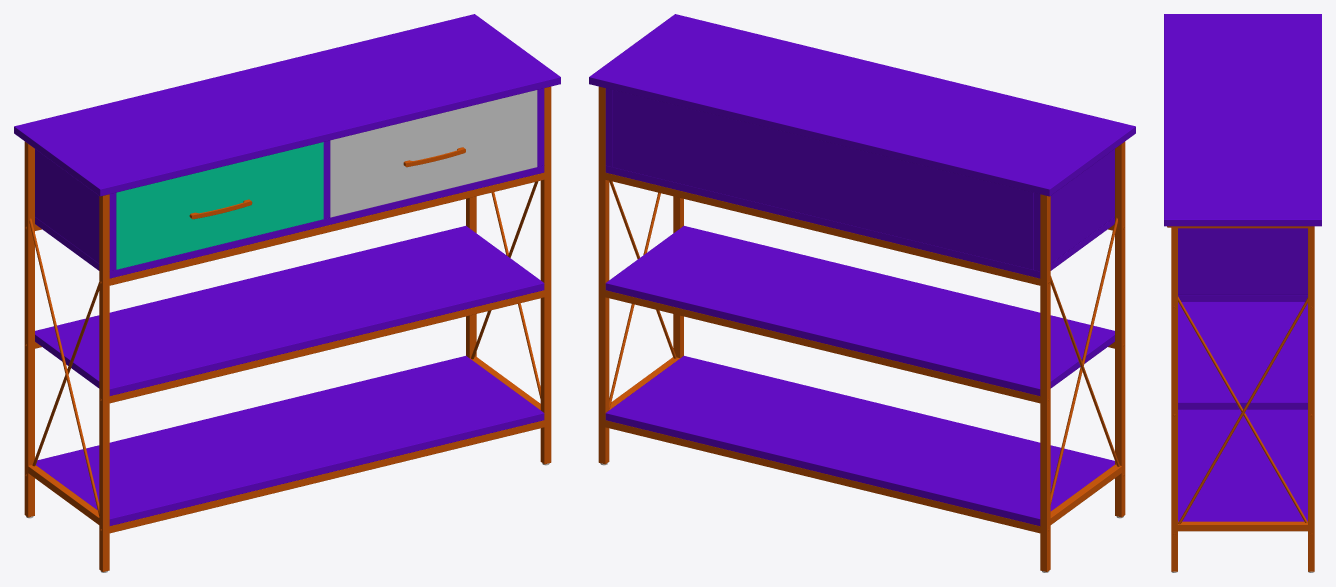
File: console-table-004.fbx
The picture shows the model from 3 angles, left to right: view 1: azimuth 30°, elevation 25°; view 2: azimuth 150°, elevation 25°; view 3: azimuth 270°, elevation 25°; orthographic projection. The views are drawn at different scales.
Parts seen in each view (by area): view 1: console-table, drawer-left, drawer-right; view 2: console-table; view 3: console-table.
Part boxes in pixels (x1=…): console-table: x1=14, y1=14, x2=560, y2=572; drawer-left: x1=116, y1=142, x2=323, y2=269; drawer-right: x1=330, y1=90, x2=537, y2=217; console-table: x1=589, y1=14, x2=1135, y2=572; console-table: x1=1164, y1=14, x2=1321, y2=572.
Size of the model in its own units: 102 by 82 by 32.95.
